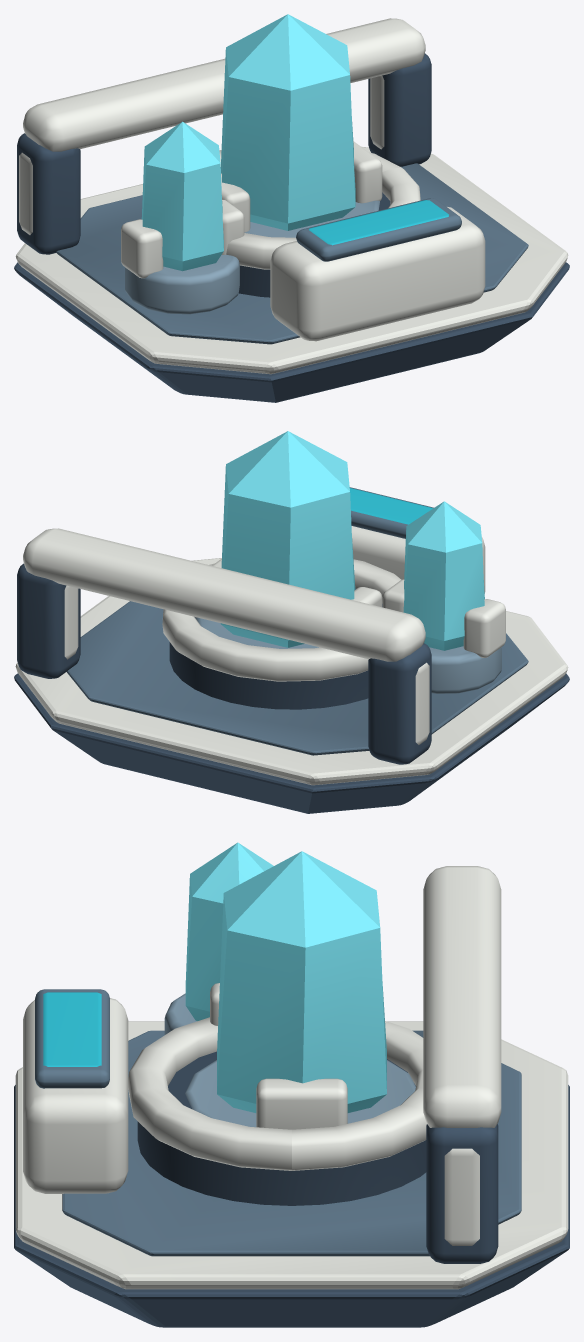
The model's file is crystal_refinery_lv2.glb.
The picture shows the model from 3 angles, top to bottom: view 1: azimuth 30°, elevation 25°; view 2: azimuth 150°, elevation 25°; view 3: azimuth 270°, elevation 25°; orthographic projection. The views are drawn at different scales.
Visible parts, largest first — view 1: Structure; view 2: Structure; view 3: Structure.
Part boxes in pixels (x1,y1,x2,y2): Structure: (14, 14, 569, 402); Structure: (14, 431, 569, 813); Structure: (14, 842, 569, 1327).
Size of the model in its own units: 6.12 by 4.17 by 5.55.
